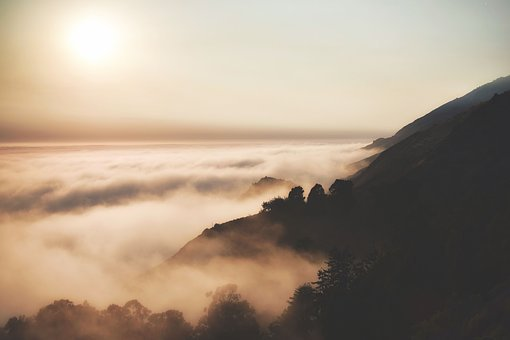mountain: (210, 104, 508, 340)
sky: (4, 2, 504, 135)
